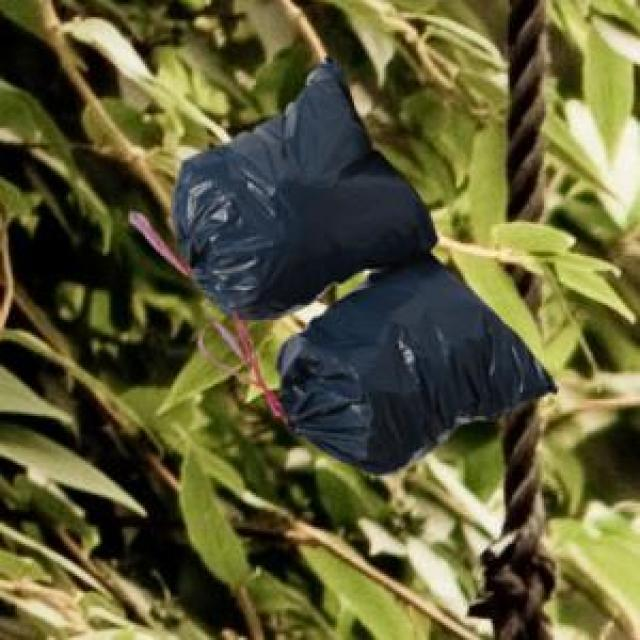Vinyl: (165, 70, 435, 308), (288, 252, 559, 468)
